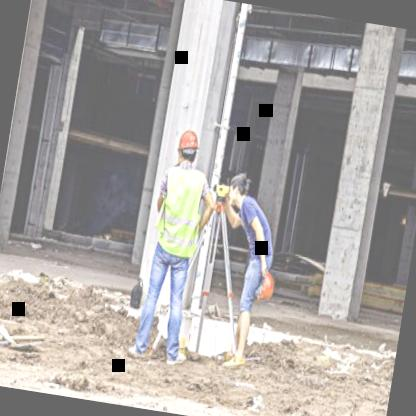helmet: (172, 126, 202, 168)
